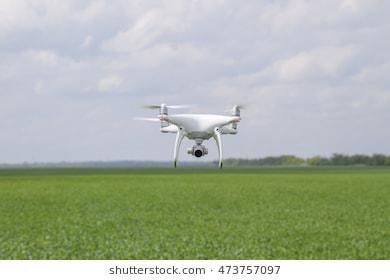drone: (136, 101, 242, 169)
